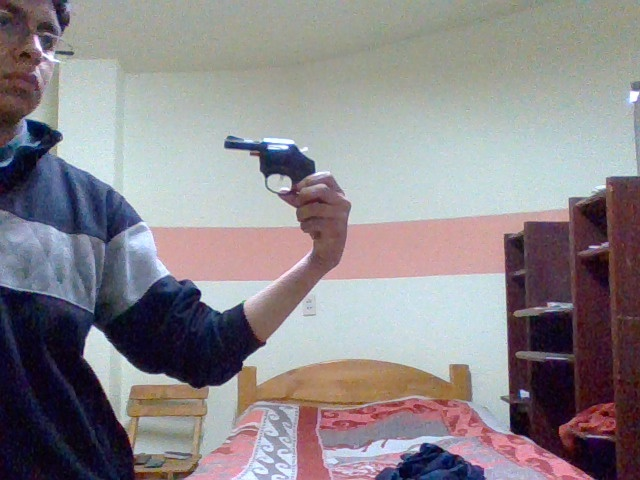pistola: (210, 128, 337, 222)
